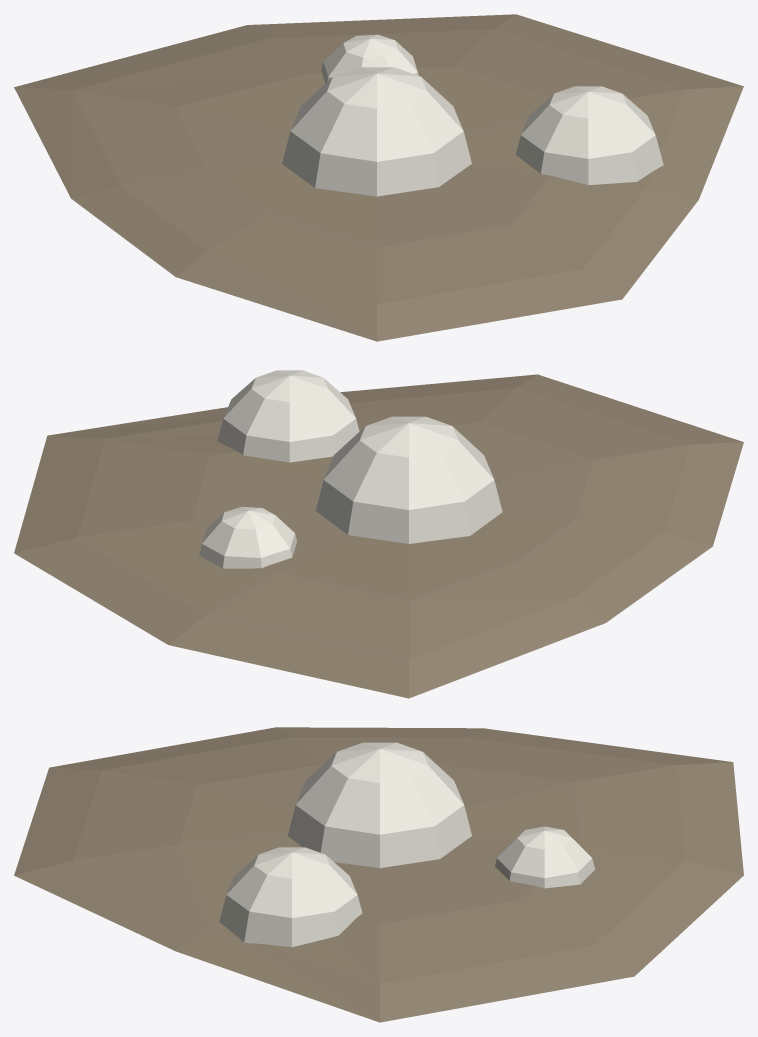
File: puffball-trio.glb
3 renders of one model, top to bottom at view 1: azimuth 30°, elevation 25°; view 2: azimuth 150°, elevation 25°; view 3: azimuth 270°, elevation 25°, orthographic. The views are drawn at different scales.
Visible parts, largest first — view 1: puffball-trio; view 2: puffball-trio; view 3: puffball-trio.
Part boxes in pixels (bbox=[...]): puffball-trio: bbox=[14, 14, 743, 341]; puffball-trio: bbox=[14, 370, 743, 698]; puffball-trio: bbox=[14, 727, 743, 1022].
Size of the model in its own units: 0.6361 by 0.1 by 0.6646.
